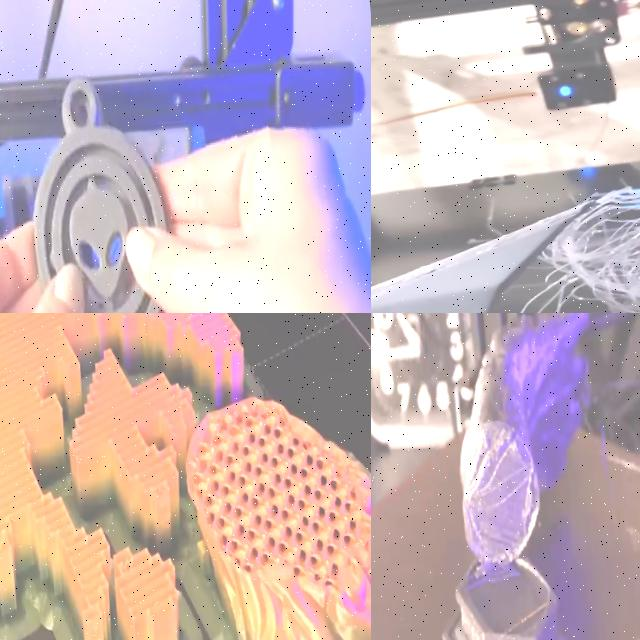spaghetti: (527, 112, 640, 313), (584, 313, 640, 640)
